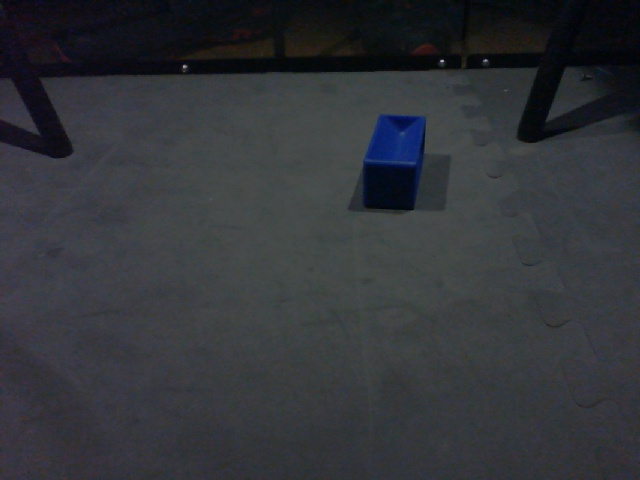BlueSample: (360, 110, 427, 213)
